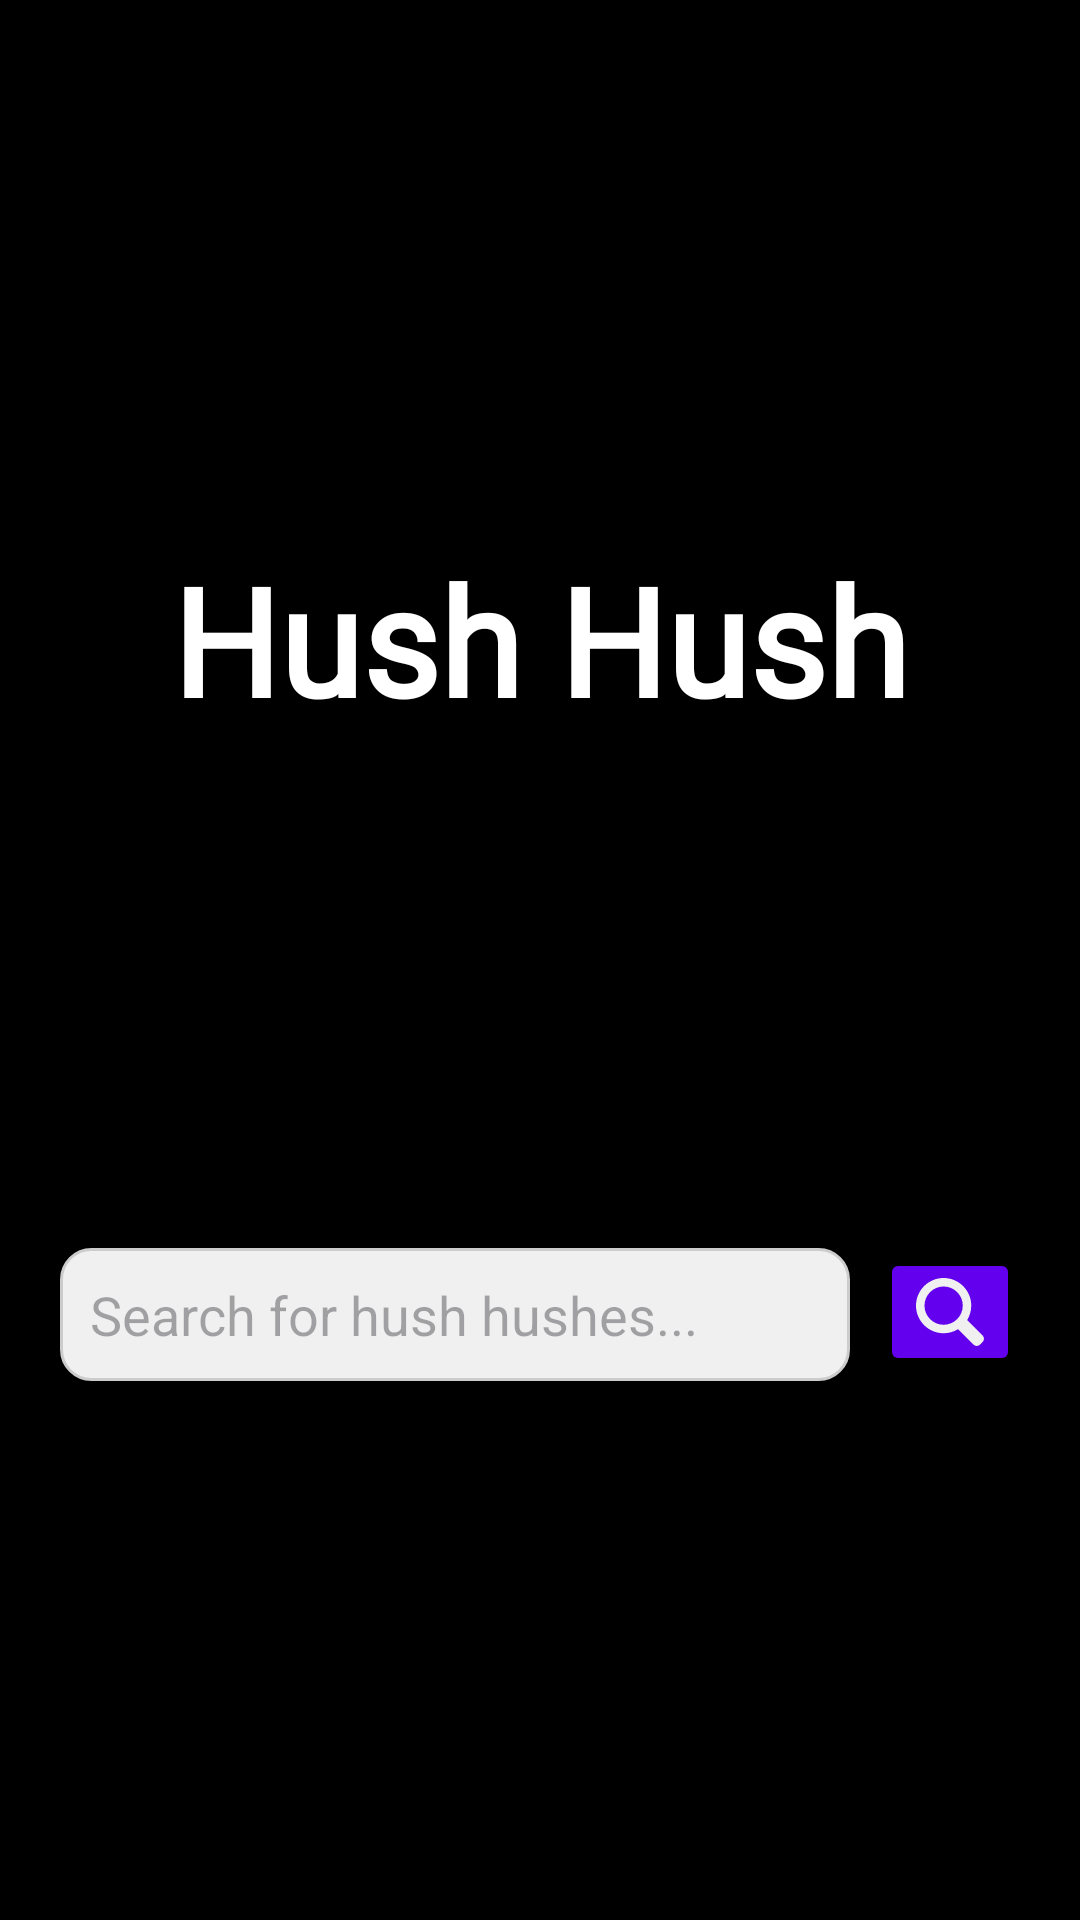

Named icons in this screenshot (1080*1920) and their centers, point (x, y):
magnifier: point (950, 1312)
